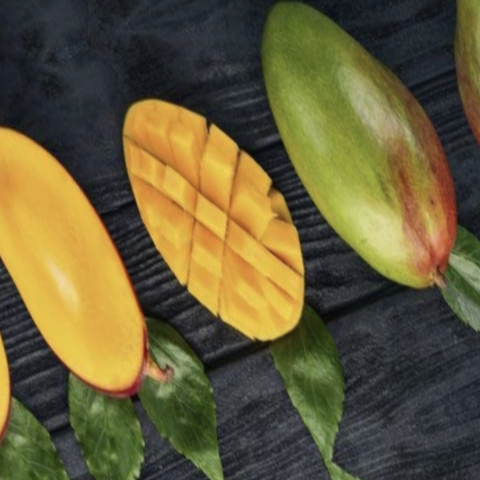mango: (78, 17, 341, 372), (219, 0, 480, 337), (0, 86, 193, 443)
